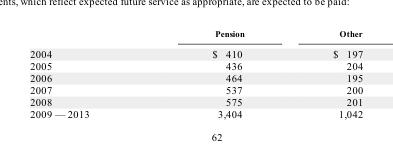table: (29, 28, 362, 119)
table column: (150, 28, 288, 119), (29, 28, 150, 119), (288, 28, 362, 119)
table column header: (29, 28, 362, 43)
table row: (29, 43, 362, 59), (29, 28, 362, 43), (29, 59, 362, 71), (29, 71, 362, 83), (29, 83, 362, 95), (29, 95, 362, 107), (29, 107, 362, 119)
